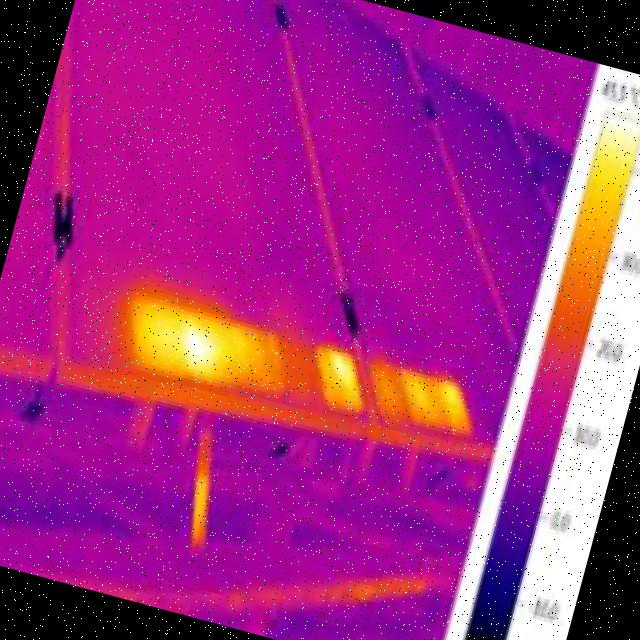Hotspot: (108, 281, 304, 415), (354, 350, 490, 450), (296, 331, 381, 432)
